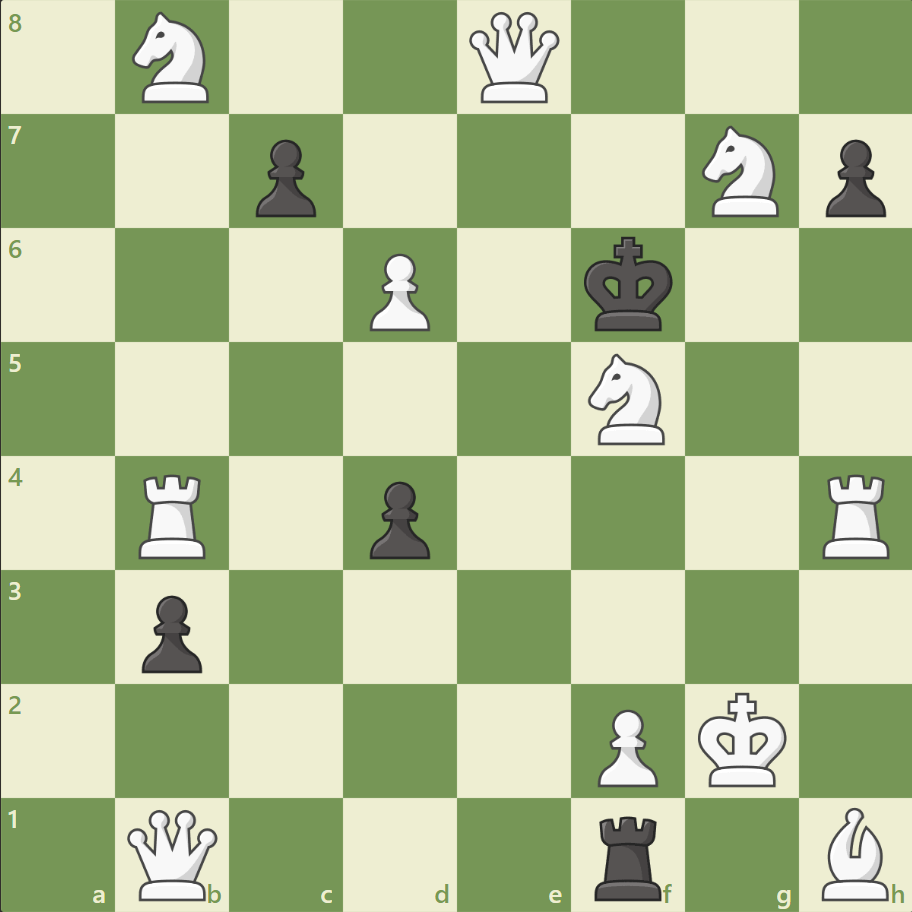B: (812, 801, 896, 904)
K: (692, 685, 792, 793)
N: (124, 7, 222, 110), (692, 121, 789, 223), (579, 348, 676, 450)
P: (361, 246, 435, 337), (588, 700, 662, 791)
Q: (464, 9, 563, 108), (124, 804, 223, 903)
R: (814, 466, 897, 563), (133, 466, 215, 563)
k: (579, 231, 679, 339)
p: (247, 132, 322, 223), (133, 586, 208, 677), (815, 132, 889, 223), (361, 473, 435, 564)
r: (587, 806, 670, 904)
